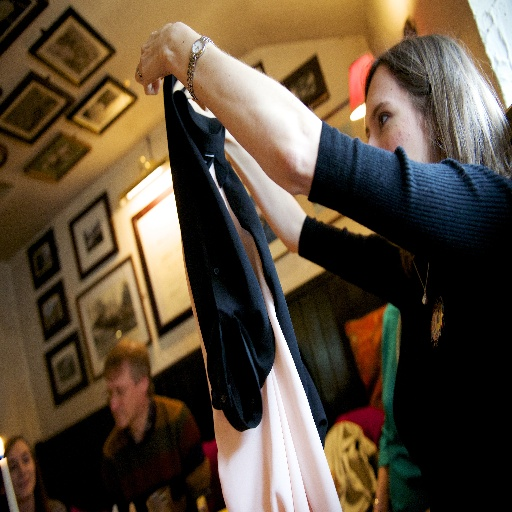hand: (130, 7, 207, 96), (371, 492, 390, 511)
